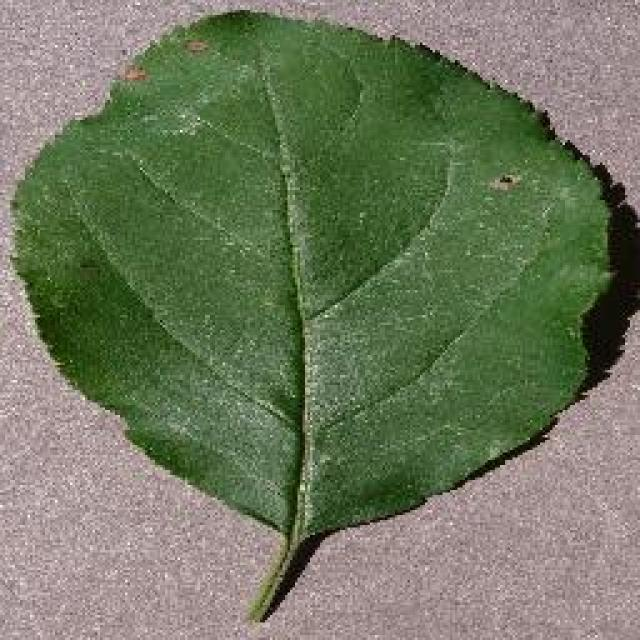Black_rot: (8, 5, 618, 623)
